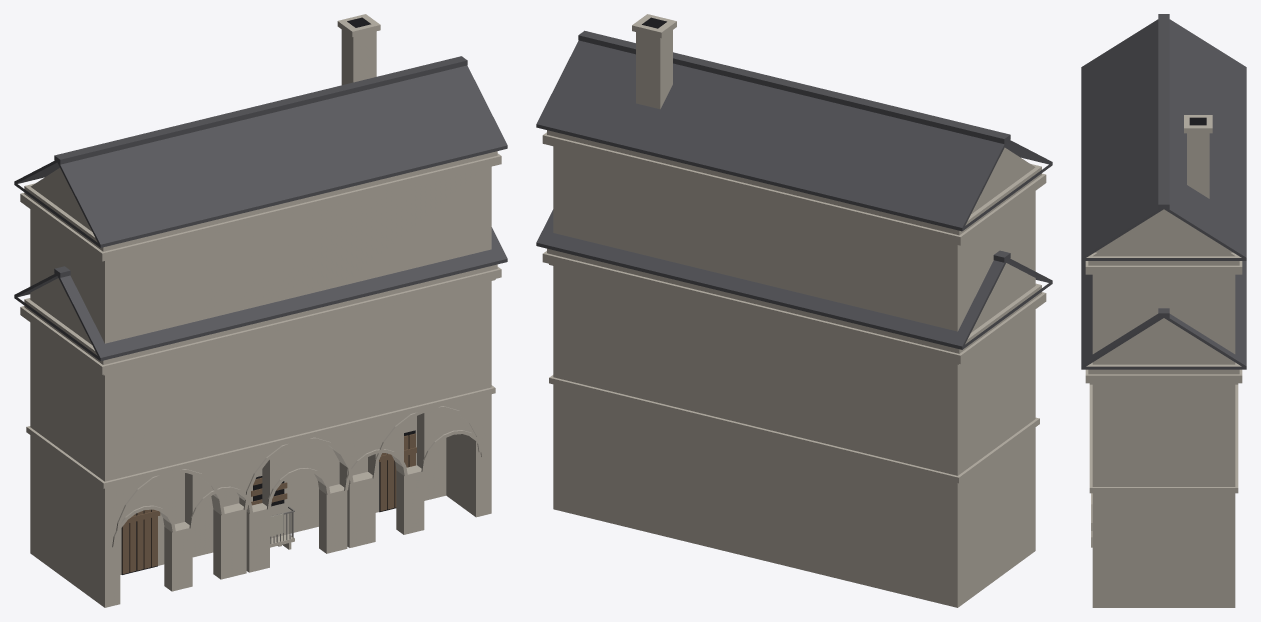
The model's file is houses.glb.
3 renders of one model, left to right at view 1: azimuth 30°, elevation 25°; view 2: azimuth 150°, elevation 25°; view 3: azimuth 270°, elevation 25°, orthographic. The views are drawn at different scales.
Parts seen in each view (by area): view 1: house_s3_a3, house_s2_a3, house_s2_a5, house_balcony; view 2: house_s3_a3, house_s2_a3; view 3: house_s3_a3, house_s2_a3.
Part boxes in pixels (left/top/right/bottom): house_s3_a3: left=14, top=14, right=507, bottom=481; house_s2_a3: left=14, top=227, right=507, bottom=607; house_s2_a5: left=99, top=397, right=491, bottom=607; house_balcony: left=270, top=506, right=294, bottom=549; house_s3_a3: left=536, top=14, right=1052, bottom=475; house_s2_a3: left=536, top=209, right=1052, bottom=607; house_s3_a3: left=1081, top=14, right=1246, bottom=486; house_s2_a3: left=1081, top=261, right=1246, bottom=607.
Size of the model in its own units: 15.8 by 18.01 by 5.8.
